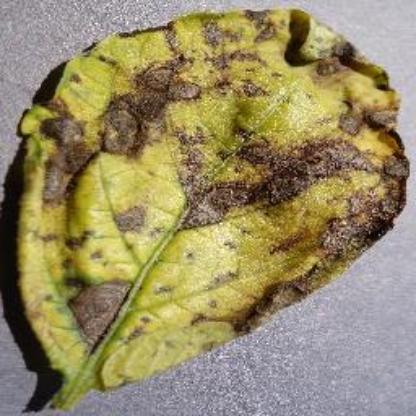Early-Blight: (15, 7, 407, 414)
